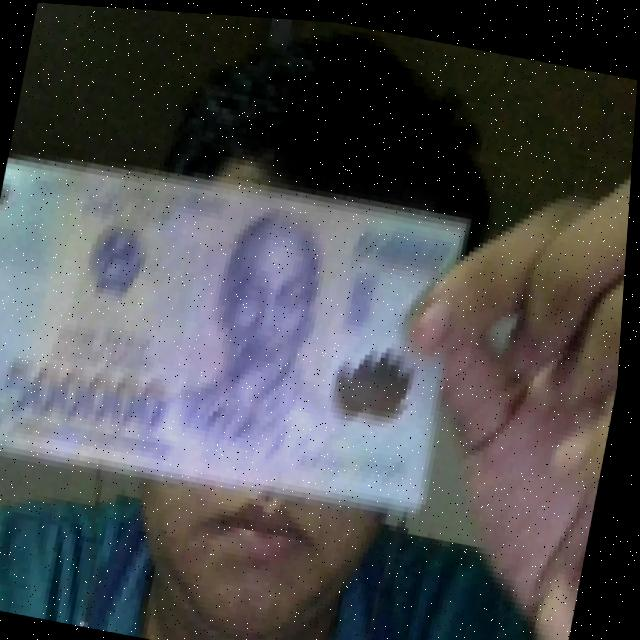500 000 VND: (0, 124, 490, 531)
